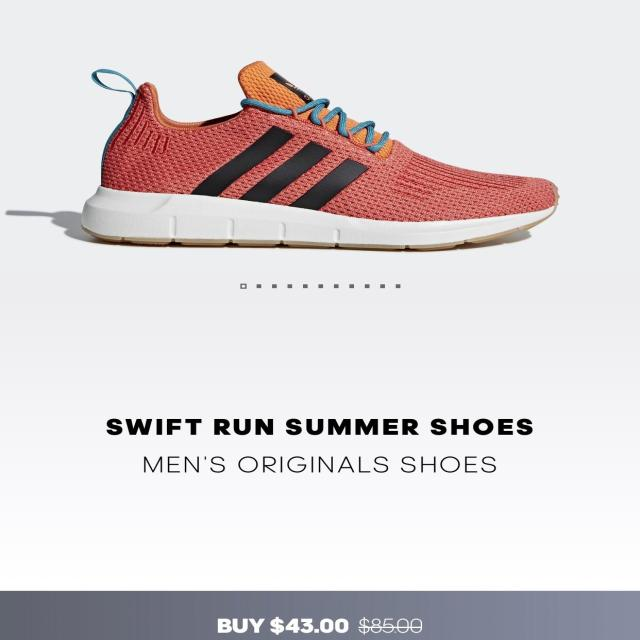shoe: (80, 65, 561, 254)
